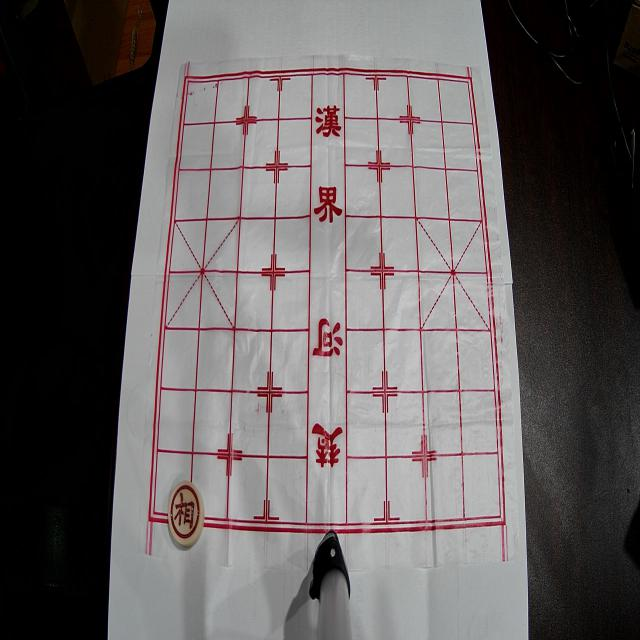red-elephant: (168, 481, 205, 547)
